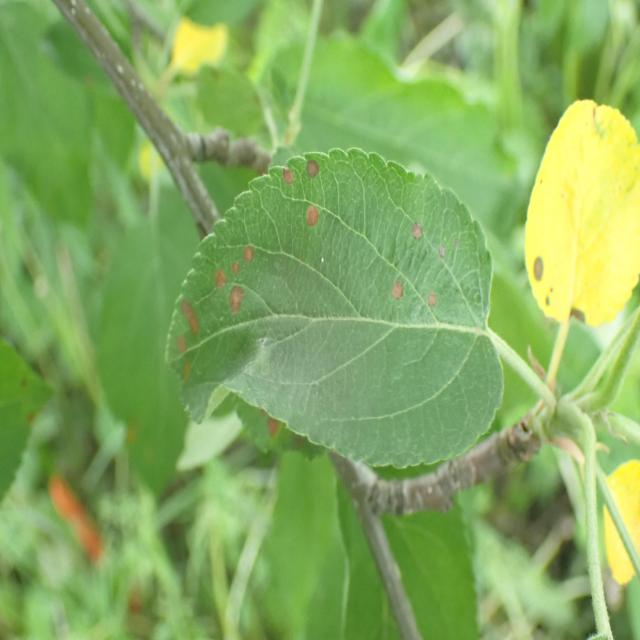Black Rot: (174, 278, 207, 340), (196, 252, 232, 303), (423, 228, 469, 267), (228, 233, 261, 284), (176, 337, 201, 400), (255, 406, 291, 443), (392, 268, 411, 328), (296, 197, 324, 234), (424, 278, 443, 331), (302, 153, 328, 191), (226, 280, 249, 320), (275, 162, 299, 193), (408, 217, 427, 251)
